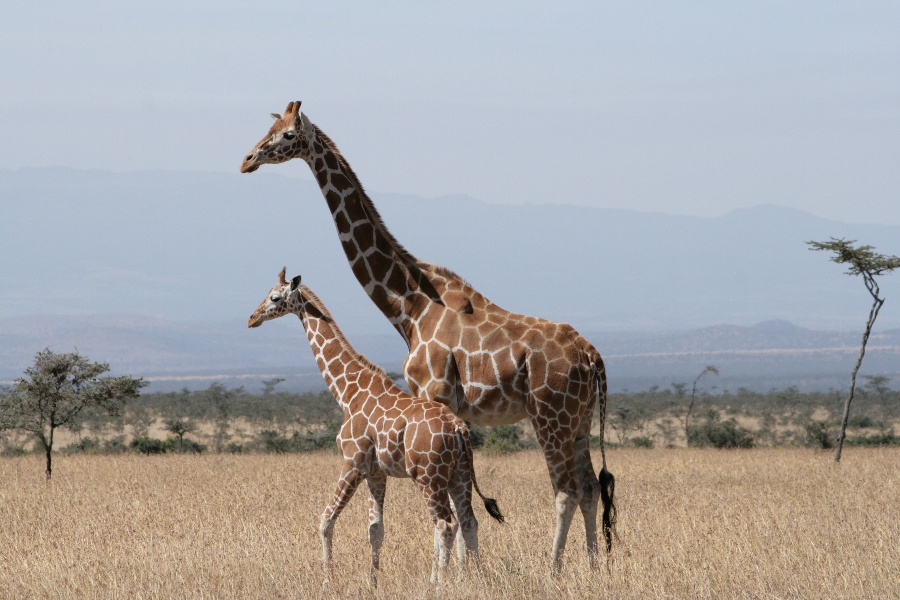giraffe: (236, 91, 621, 577), (239, 262, 495, 587)
